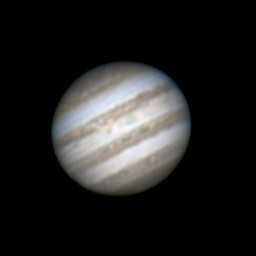planet: (51, 59, 198, 199)
